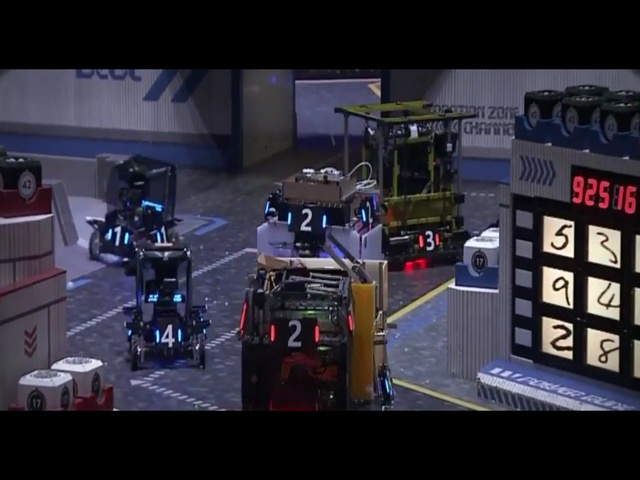plate: (268, 316, 321, 350), (287, 203, 327, 237), (152, 321, 185, 353), (106, 221, 130, 252), (416, 227, 442, 254), (357, 194, 377, 228), (154, 223, 172, 246)
